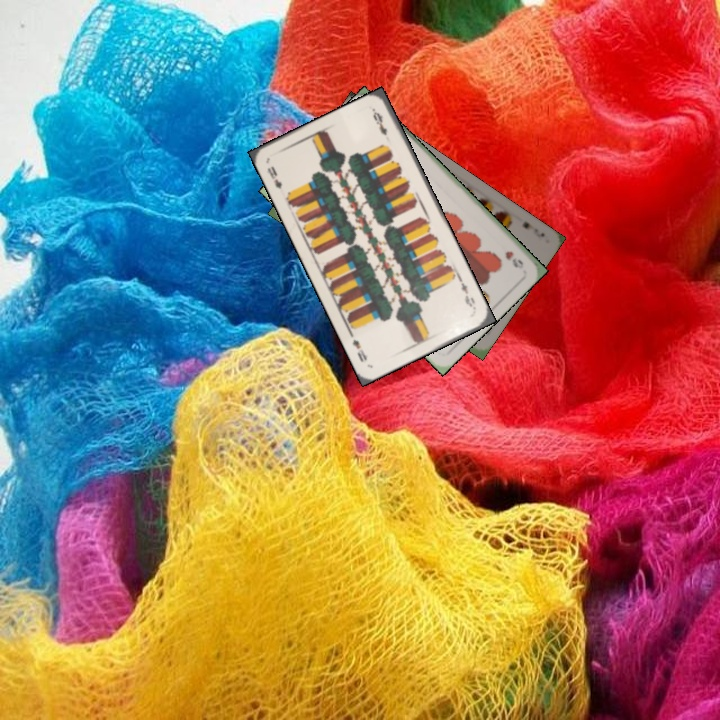E7: (518, 217, 548, 240)
E9: (455, 275, 479, 312), (262, 162, 285, 192)
H9: (501, 247, 526, 271)
